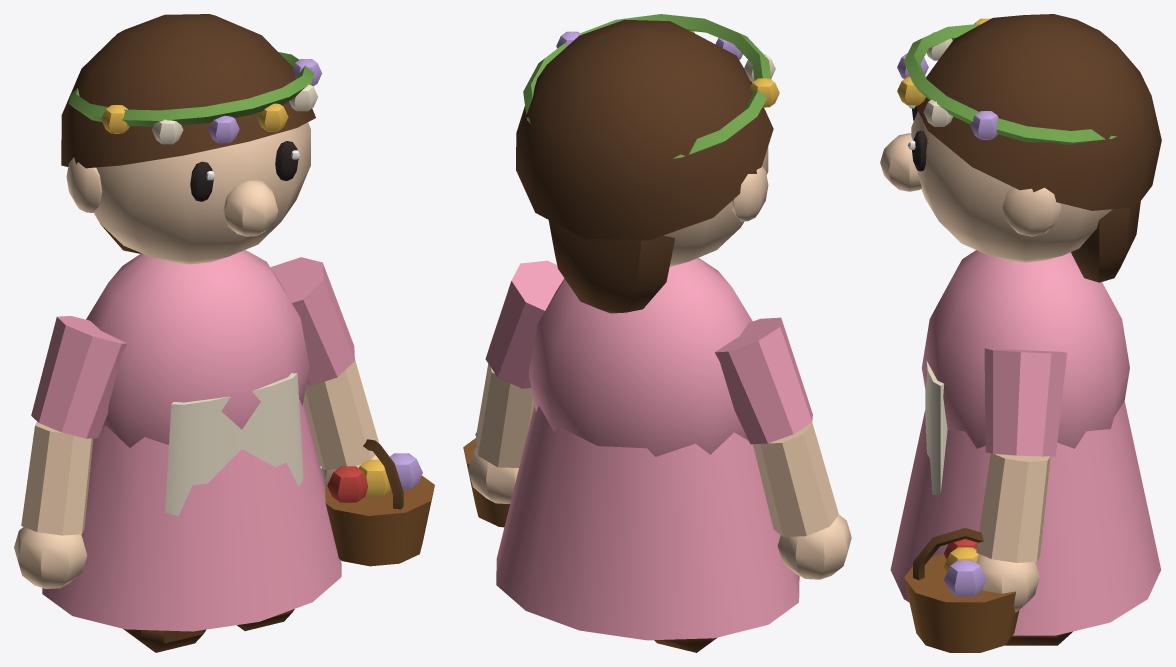
Rendered from CH_Cust_33_BaharCicekcisi.fbx.
The picture shows the model from 3 angles, left to right: view 1: azimuth 30°, elevation 25°; view 2: azimuth 150°, elevation 25°; view 3: azimuth 270°, elevation 25°; orthographic projection.
Parts seen in each view (by area): view 1: CH_Cust_33_BaharCicekcisi; view 2: CH_Cust_33_BaharCicekcisi; view 3: CH_Cust_33_BaharCicekcisi.
Boxes of the visible parts, x1,y1,x2,y2 form: CH_Cust_33_BaharCicekcisi: [14, 14, 434, 652]; CH_Cust_33_BaharCicekcisi: [463, 14, 851, 652]; CH_Cust_33_BaharCicekcisi: [880, 14, 1161, 652].
Bounding box in the file's own units: 0.7343 × 1.06 × 0.46.
Materials: 1 (1 with a texture image).
